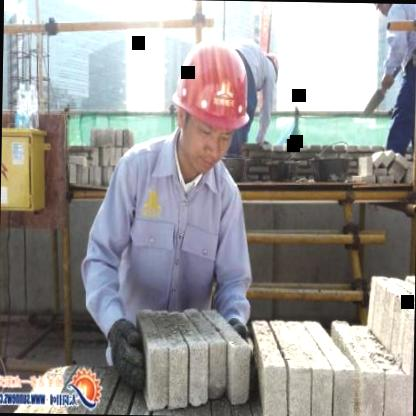helmet: (165, 32, 258, 178), (260, 46, 280, 89)
